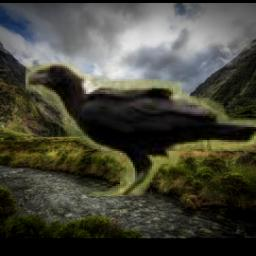Crow: (25, 64, 256, 197)
